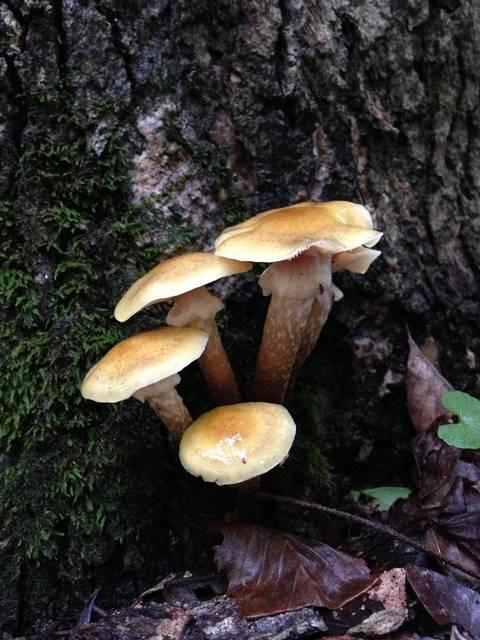edible_mushroom: (212, 198, 383, 404), (112, 250, 253, 405), (79, 324, 209, 442), (177, 400, 297, 486)
